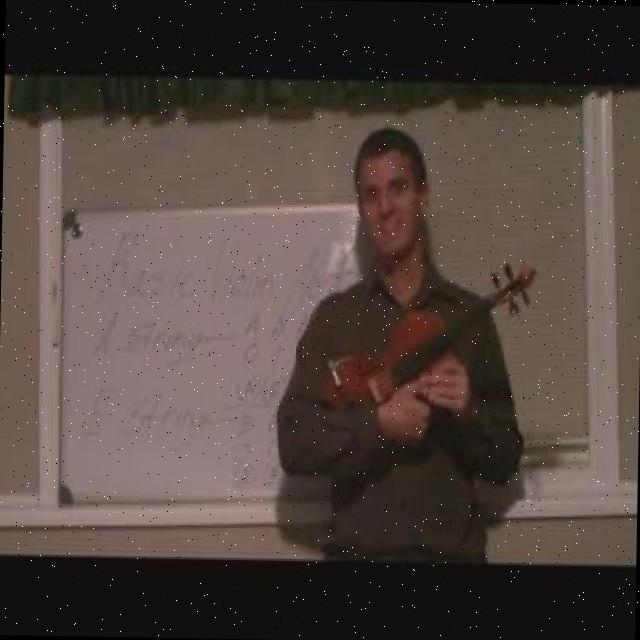violin: (324, 256, 538, 424)
